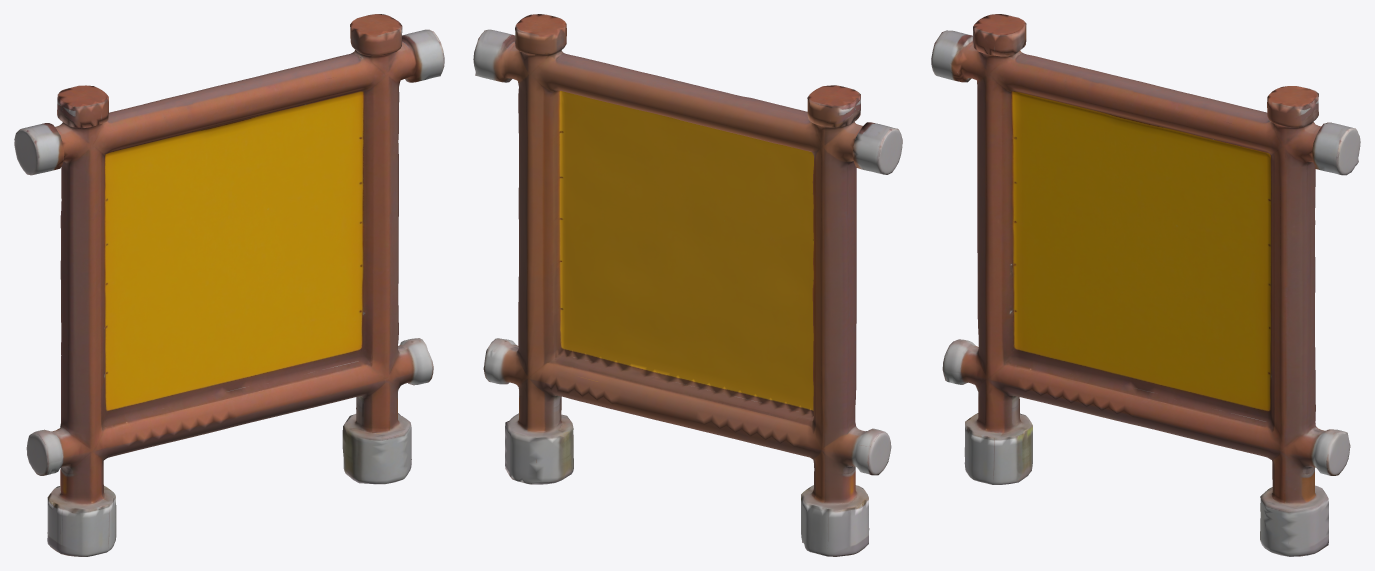
The model's file is Meshy_AI_Orange_Chest_in_a_Woo_0309181837_texture.obj.
The picture shows the model from 3 angles, left to right: view 1: azimuth 30°, elevation 25°; view 2: azimuth 150°, elevation 25°; view 3: azimuth 330°, elevation 25°; orthographic projection.
Parts seen in each view (by area): view 1: Meshy_AI_Orange_Chest_in_a_Woo_0309181837_texture; view 2: Meshy_AI_Orange_Chest_in_a_Woo_0309181837_texture; view 3: Meshy_AI_Orange_Chest_in_a_Woo_0309181837_texture.
Boxes of the visible parts, left/top/right/bottom form: Meshy_AI_Orange_Chest_in_a_Woo_0309181837_texture: left=14, top=14, right=444, bottom=556; Meshy_AI_Orange_Chest_in_a_Woo_0309181837_texture: left=473, top=14, right=902, bottom=556; Meshy_AI_Orange_Chest_in_a_Woo_0309181837_texture: left=931, top=14, right=1360, bottom=556.
Bounding box in the file's own units: 1.91 × 2.01 × 0.2637.
1 material, 1 textured.
